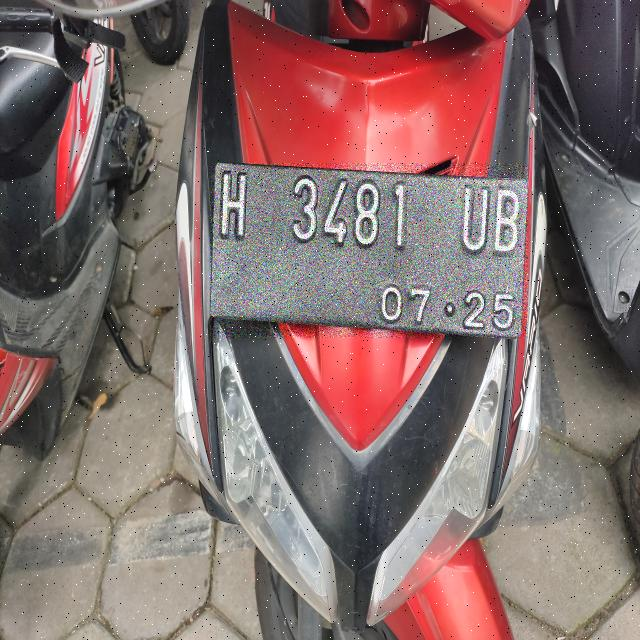plate: (211, 164, 527, 337)
